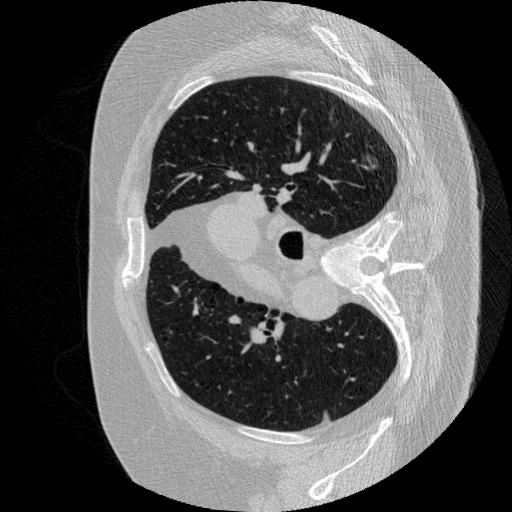nodule: (359, 149, 382, 172)
